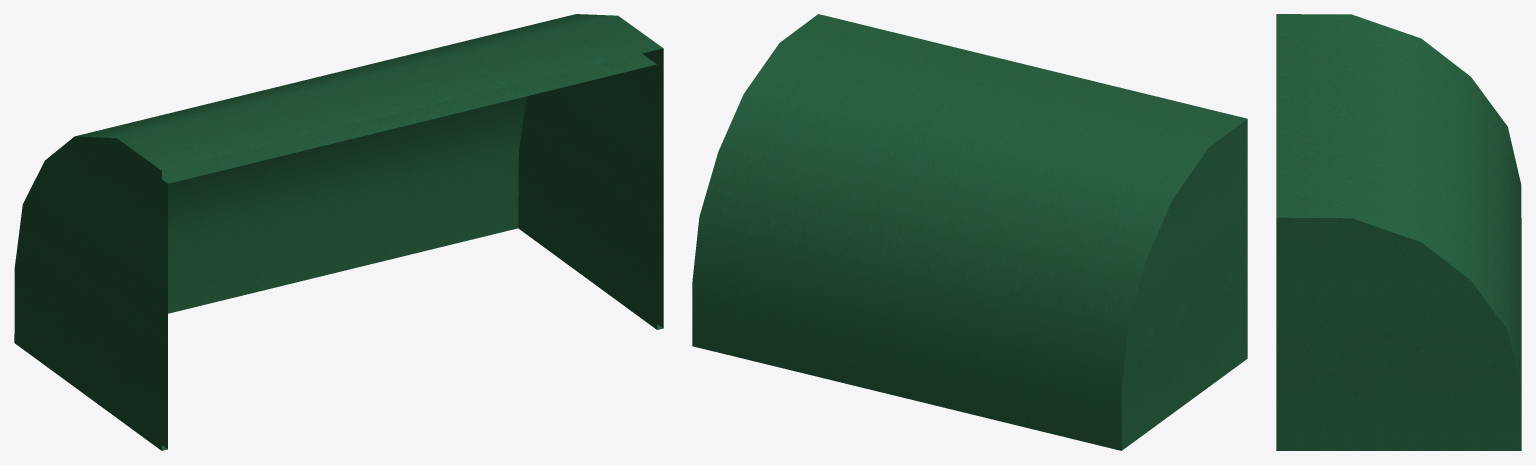
3 renders of one model, left to right at view 1: azimuth 30°, elevation 25°; view 2: azimuth 150°, elevation 25°; view 3: azimuth 270°, elevation 25°, orthographic. The views are drawn at different scales.
Visible parts, largest first — view 1: Cylinder (17); view 2: Cylinder (17); view 3: Cylinder (17).
Boxes of the visible parts, x1,y1,x2,y2 form: Cylinder (17): (14, 14, 663, 450); Cylinder (17): (692, 14, 1247, 450); Cylinder (17): (1276, 14, 1521, 450).
Bounding box in the file's own units: 441 × 236 × 225.
